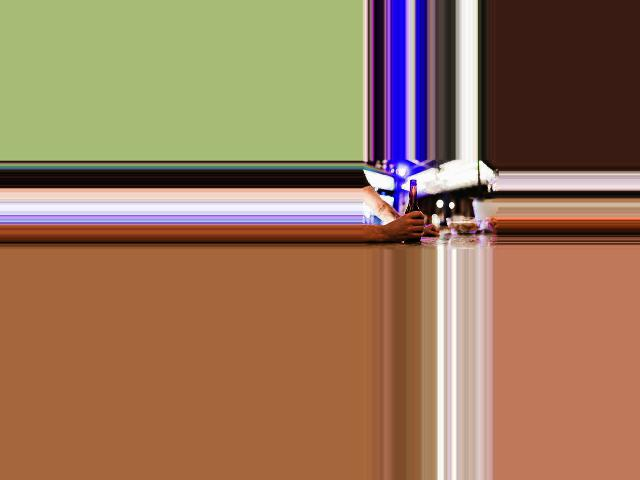beer: (405, 179, 420, 241)
